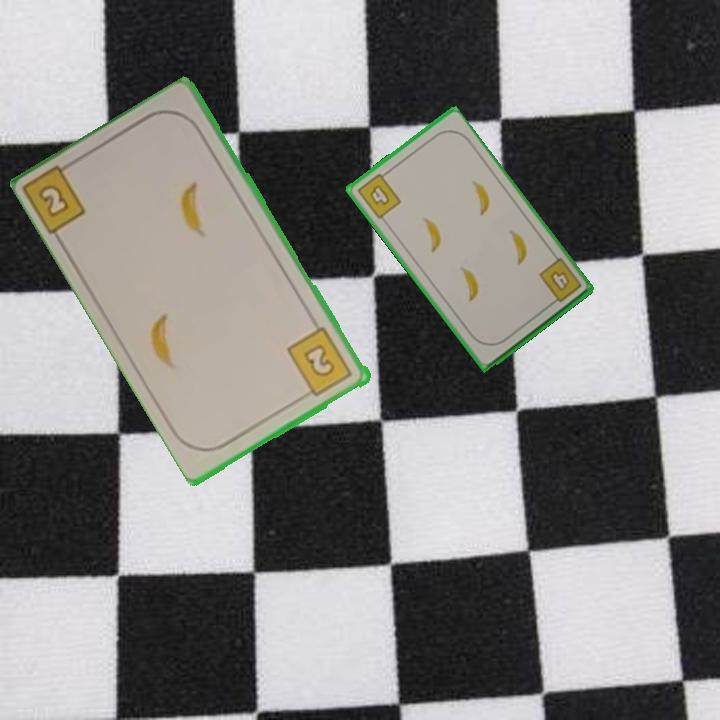2b: (22, 156, 90, 239), (284, 323, 356, 400)
4b: (353, 167, 404, 222), (535, 254, 584, 309)
